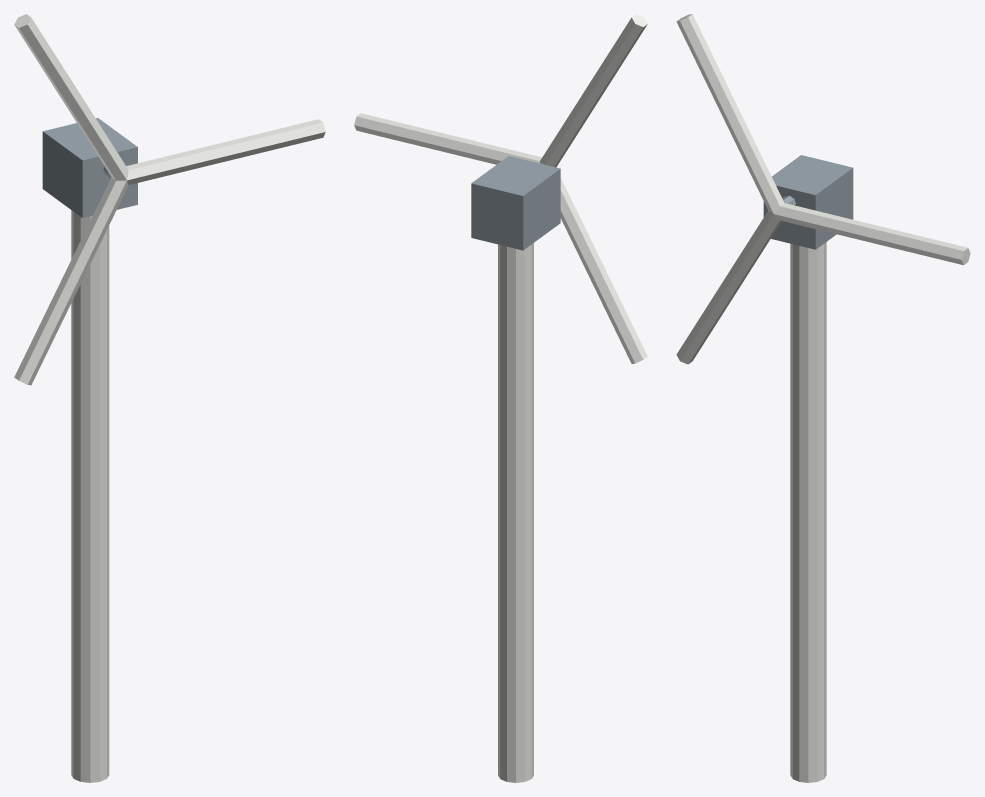
Rendered from source.glb.
3 renders of one model, left to right at view 1: azimuth 30°, elevation 25°; view 2: azimuth 150°, elevation 25°; view 3: azimuth 330°, elevation 25°, orthographic. The views are drawn at different scales.
Visible parts, largest first — view 1: worldgen; view 2: worldgen; view 3: worldgen.
Part boxes in pixels (x1=…): worldgen: x1=14, y1=14, x2=325, y2=782; worldgen: x1=354, y1=14, x2=647, y2=782; worldgen: x1=676, y1=14, x2=970, y2=782.
Size of the model in its own units: 44.1 by 111 by 14.2.
